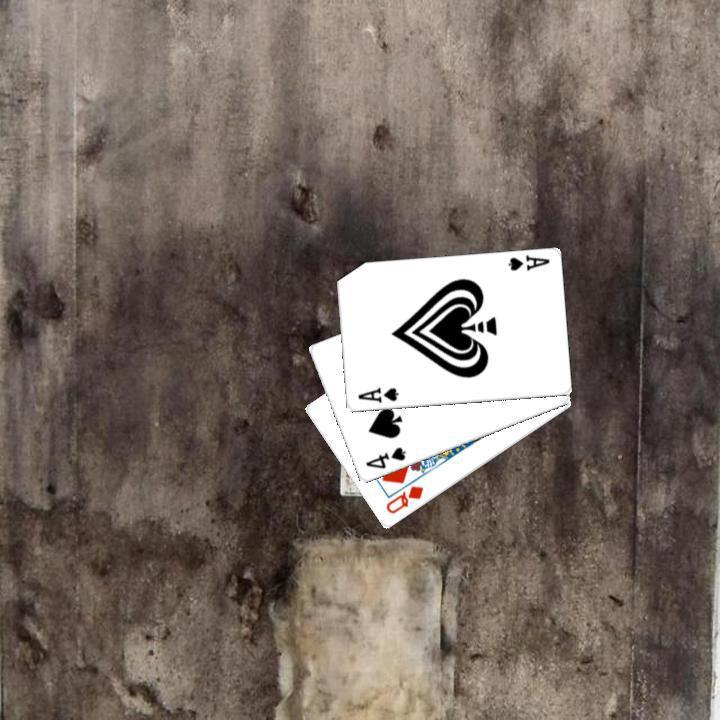4: (361, 443, 408, 471)
A: (503, 251, 551, 273), (353, 383, 400, 405)
Q: (381, 482, 426, 516)
